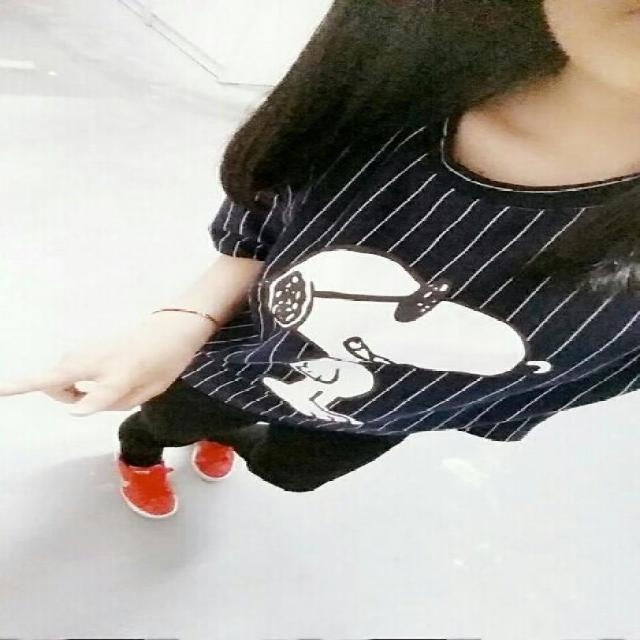short-sleeve-top: (219, 88, 634, 504)
